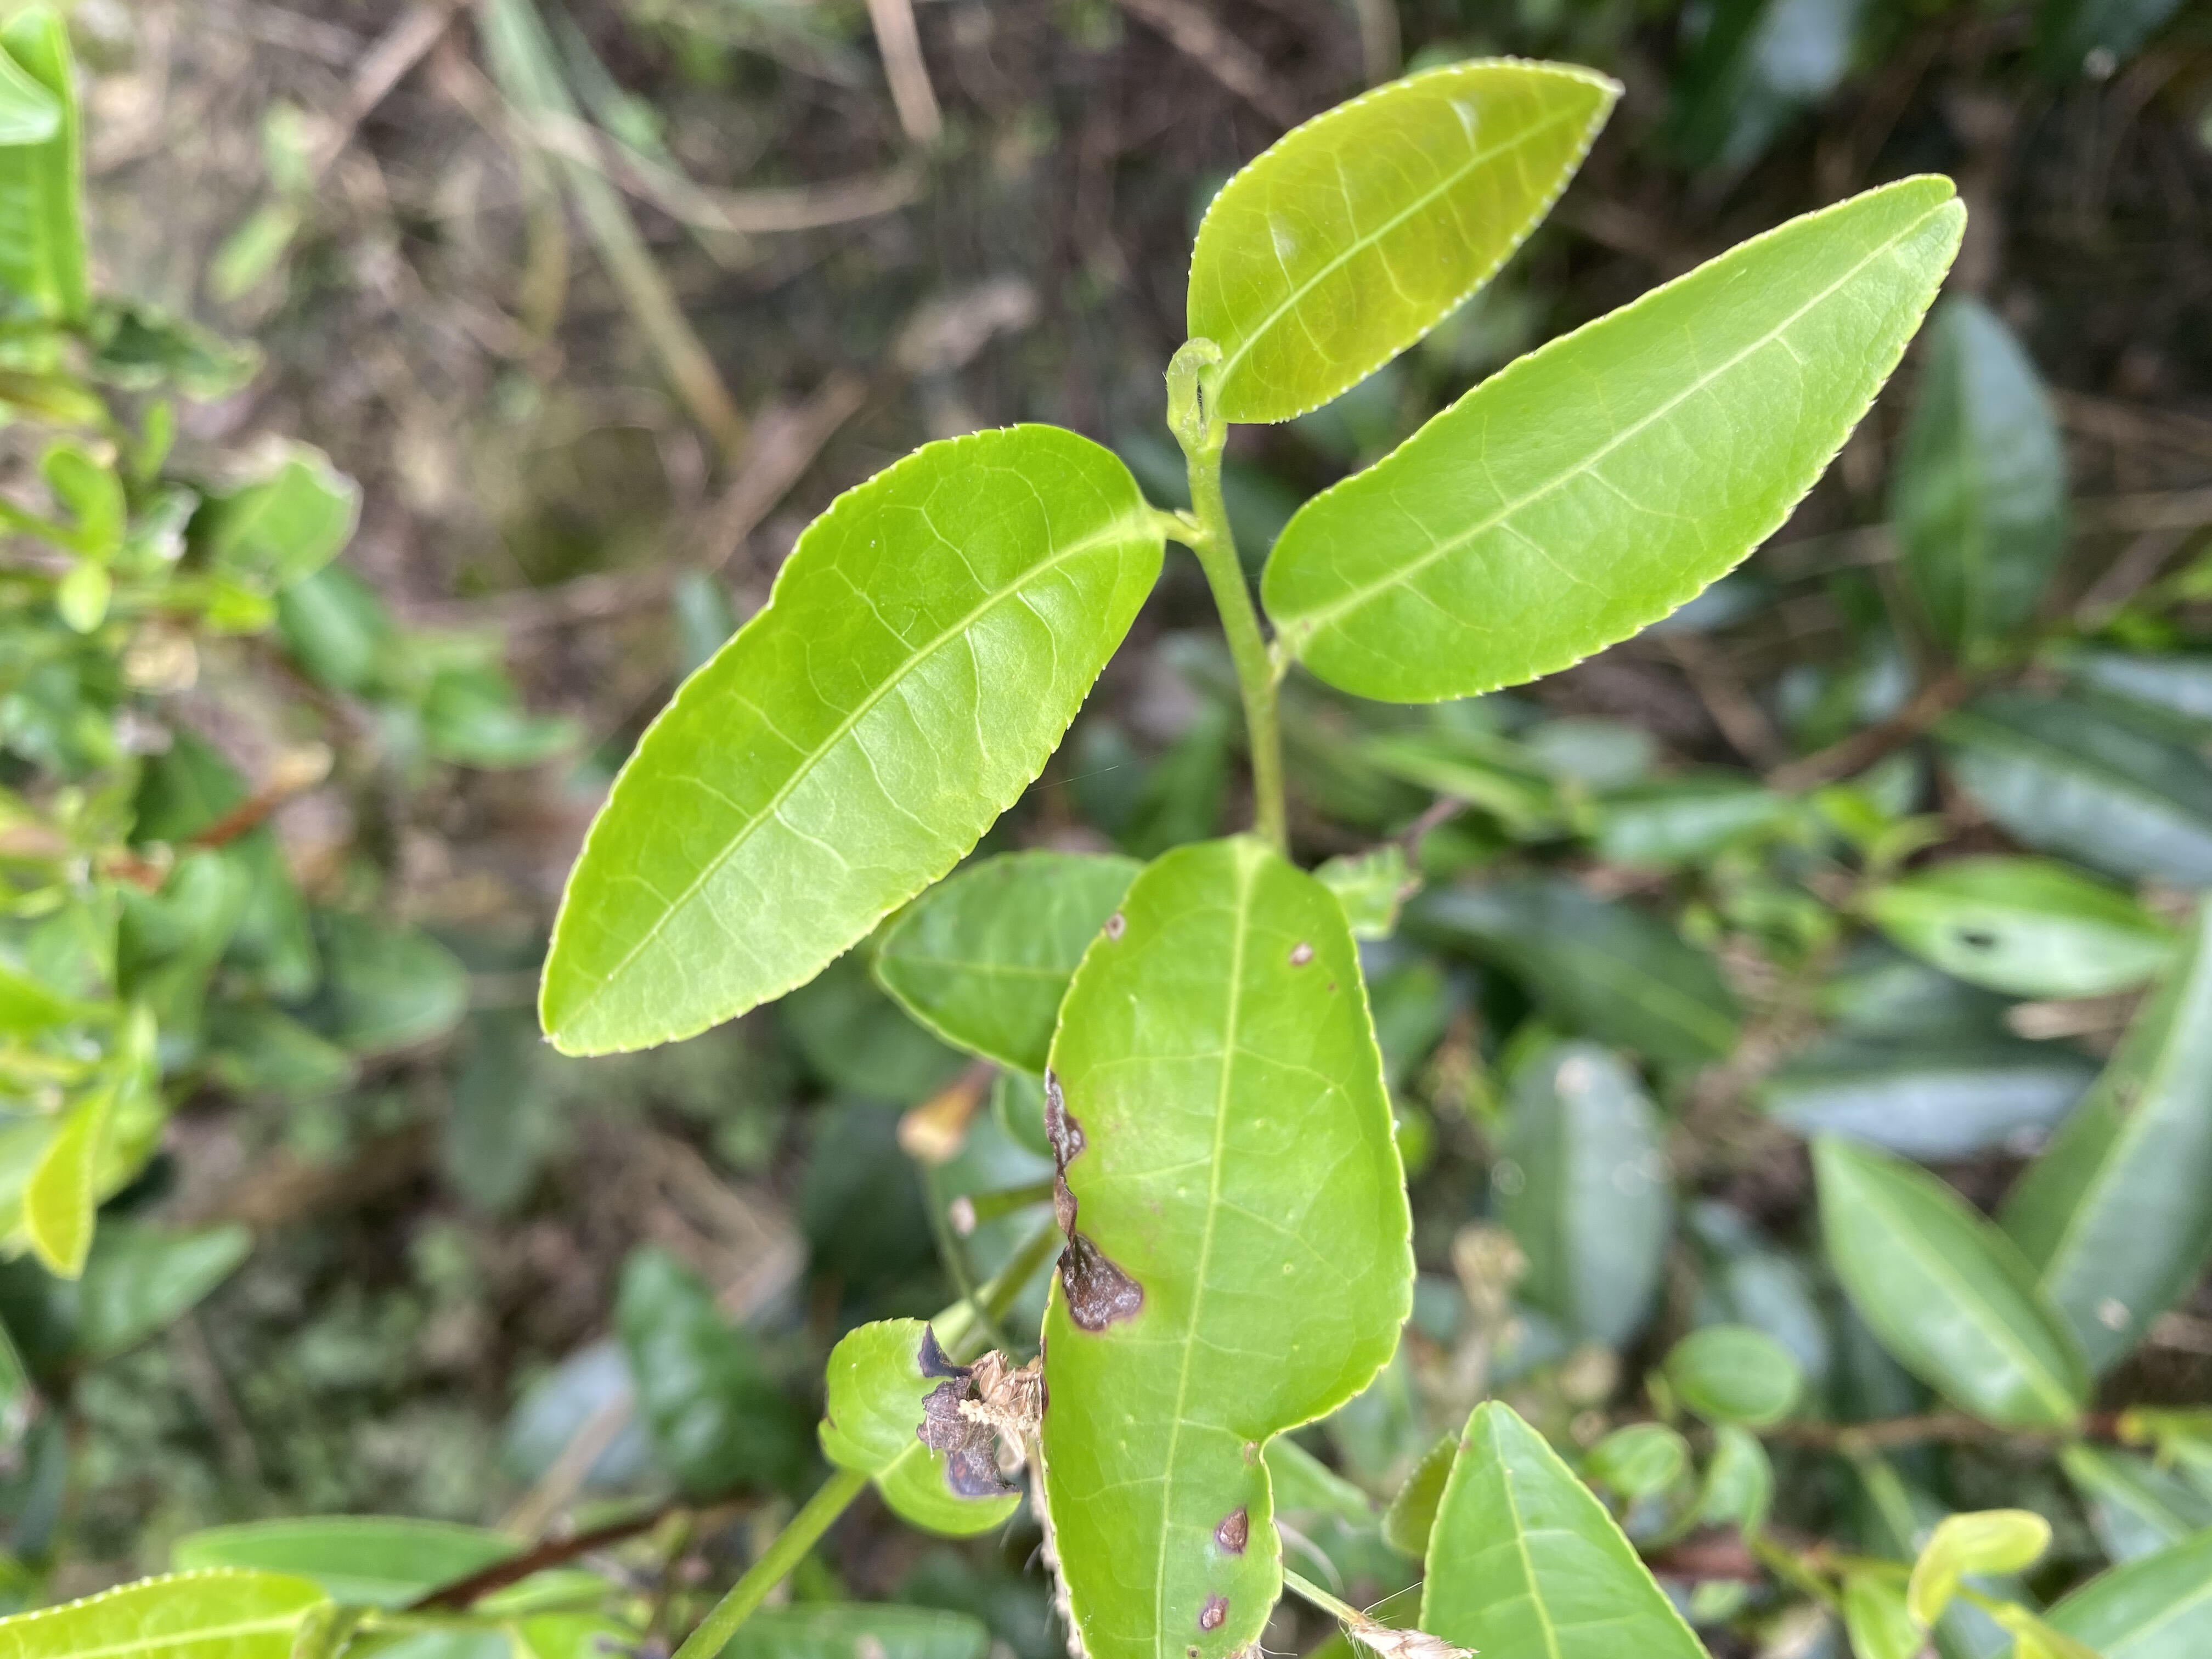healthy: (538, 420, 1165, 1063), (1261, 171, 1972, 704), (1183, 54, 1618, 425)
tanju_high: (1033, 828, 1414, 1659), (815, 1314, 1029, 1535)
